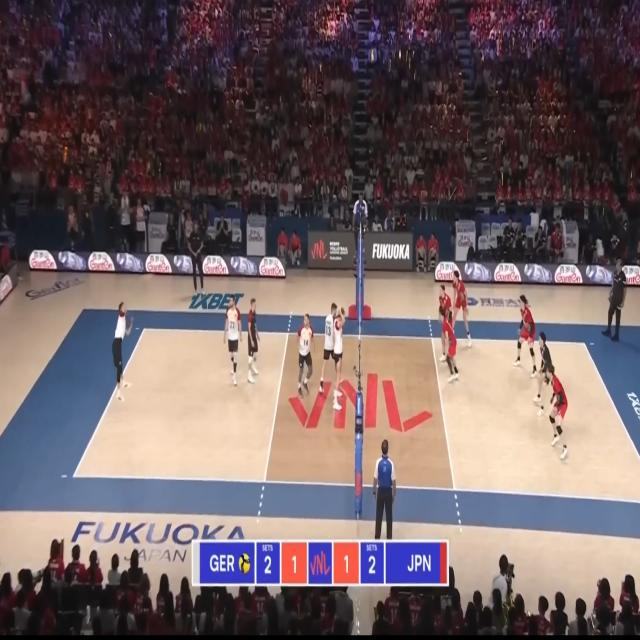ball: (141, 274, 155, 279)
